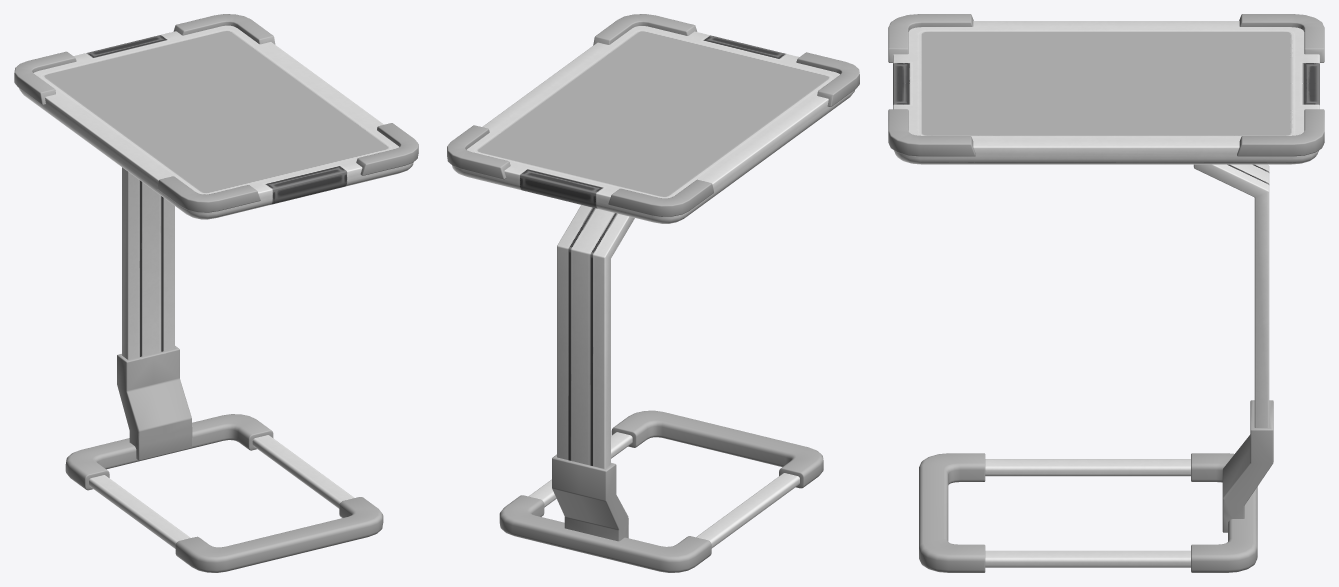
The model's file is MedInstrumentsTable01.FBX.
3 views of the same model, side by side, from view 1: azimuth 30°, elevation 25°; view 2: azimuth 150°, elevation 25°; view 3: azimuth 270°, elevation 25° (orthographic). The views are drawn at different scales.
Visible parts, largest first — view 1: MedInstrumentsTable01; view 2: MedInstrumentsTable01; view 3: MedInstrumentsTable01.
Boxes of the visible parts, x1=… form: MedInstrumentsTable01: x1=14, y1=14, x2=418, y2=572; MedInstrumentsTable01: x1=447, y1=14, x2=859, y2=572; MedInstrumentsTable01: x1=888, y1=14, x2=1324, y2=572.
Size of what is drawn, in the model's own units: 0.5737 by 0.9089 by 0.8109.
